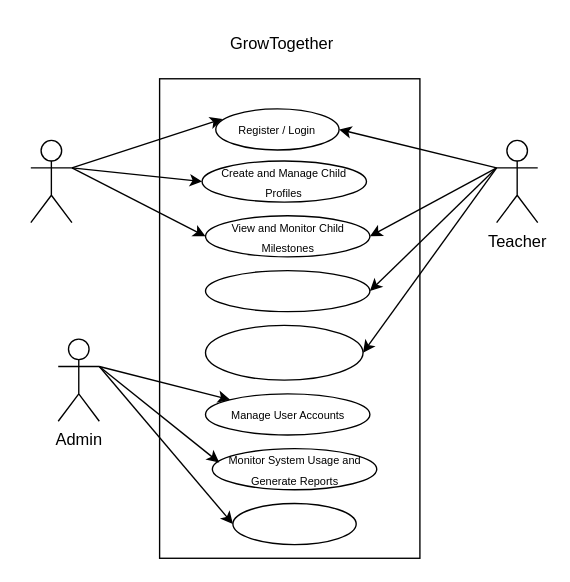
The diagram is 570 pixels wide and 582 high, and some of its shapes have lost their labels. The shapes that lost their labels are listed below. From the top down, each one's centre as x and y in pixels, then its label:
(x=50, y=181): Parents
(x=287, y=290): Access Assigned Children Profiles
(x=283, y=352): Access Educational Resources for Teaching
(x=294, y=523): Login
